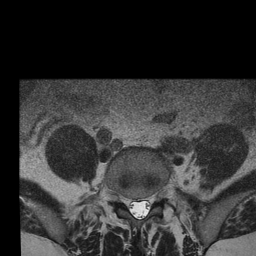CCS_normal: (136, 192, 142, 224)
LFS_normal: (150, 185, 158, 210)
LLS_normal: (142, 192, 150, 220)
RFS_normal: (121, 187, 128, 211)
RLS_normal: (128, 192, 136, 221)
